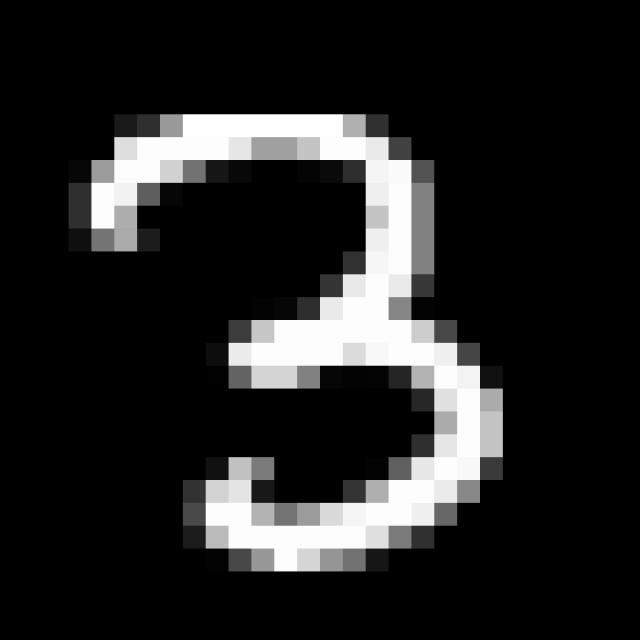three -3-: (66, 96, 518, 587)
